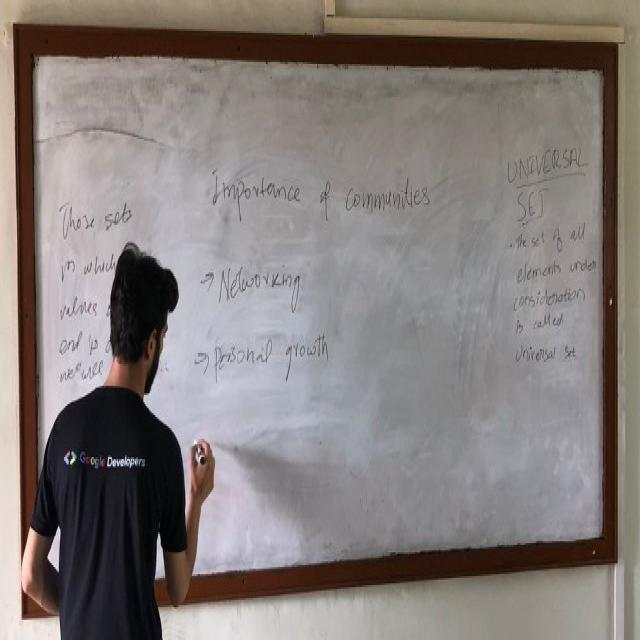Instructor: (60, 223, 188, 632)
White-board: (22, 38, 615, 603)
